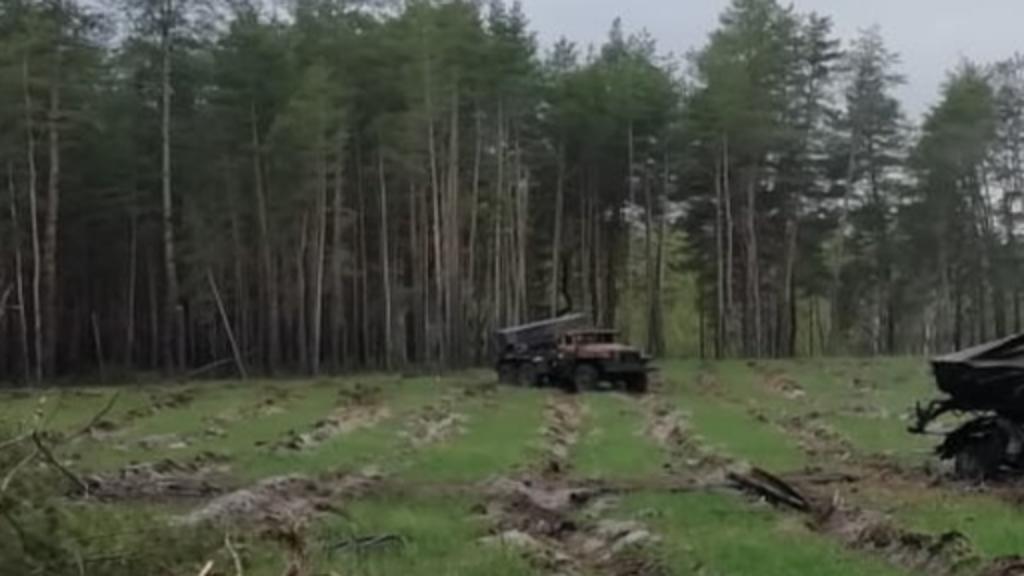MLRS: (490, 310, 654, 396)
